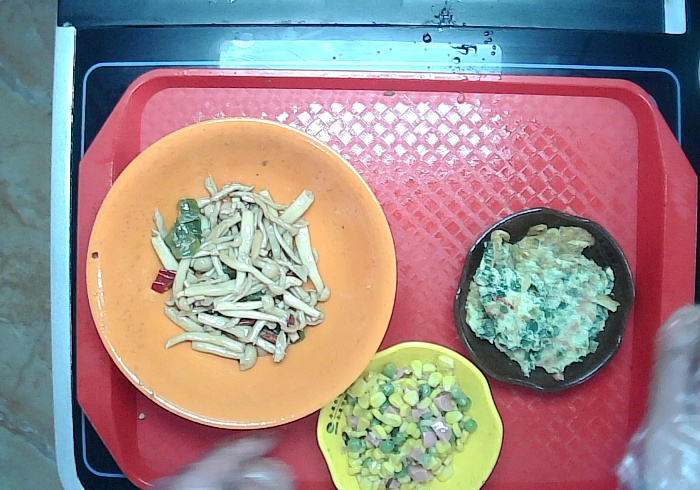YKMZ-Huang_Se_Ao_Bian_Wan: (308, 337, 508, 490)
YKMZ-Ju_Se_Tang_Wan: (80, 113, 400, 438)
YKMZ-Ka_Fei_Ao_Bian_Wan: (450, 198, 640, 398)
